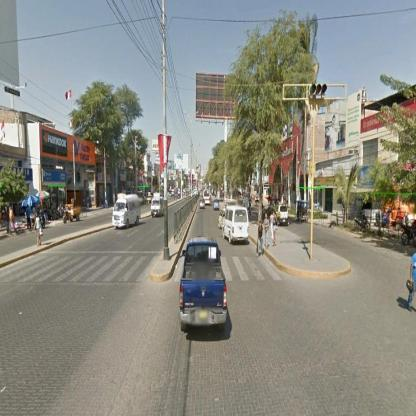Moto: (63, 205, 80, 226)
Peaton: (407, 255, 416, 311), (33, 213, 43, 248), (257, 220, 265, 259), (10, 206, 20, 237), (265, 214, 271, 251), (26, 204, 33, 232), (273, 209, 277, 248), (249, 201, 252, 221)
Pista: (133, 204, 401, 416), (2, 198, 196, 415), (286, 218, 415, 301)
Vehiculo: (180, 237, 228, 334), (222, 206, 249, 246), (113, 194, 143, 230), (274, 203, 290, 231), (152, 195, 165, 219), (298, 201, 310, 224), (218, 209, 228, 230), (205, 191, 211, 205), (214, 199, 220, 211), (200, 200, 206, 210), (148, 195, 154, 203)
